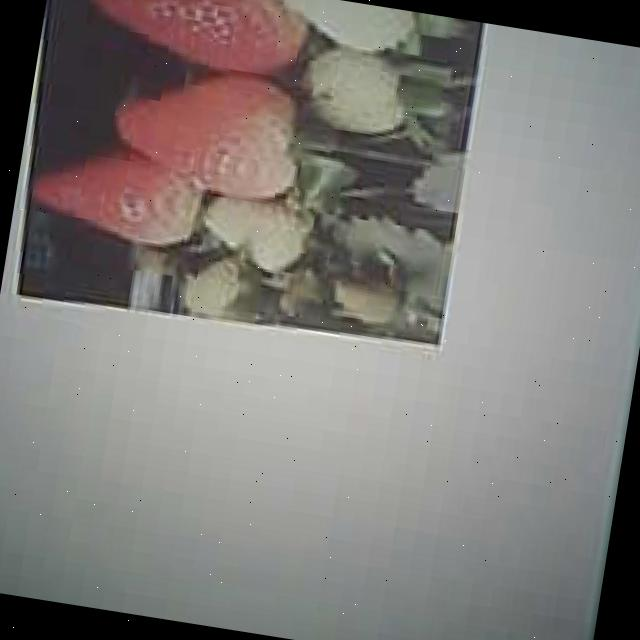strawberry: (112, 60, 309, 202), (85, 0, 311, 82), (297, 41, 416, 140), (197, 190, 321, 276), (257, 0, 419, 58), (179, 252, 278, 326)
